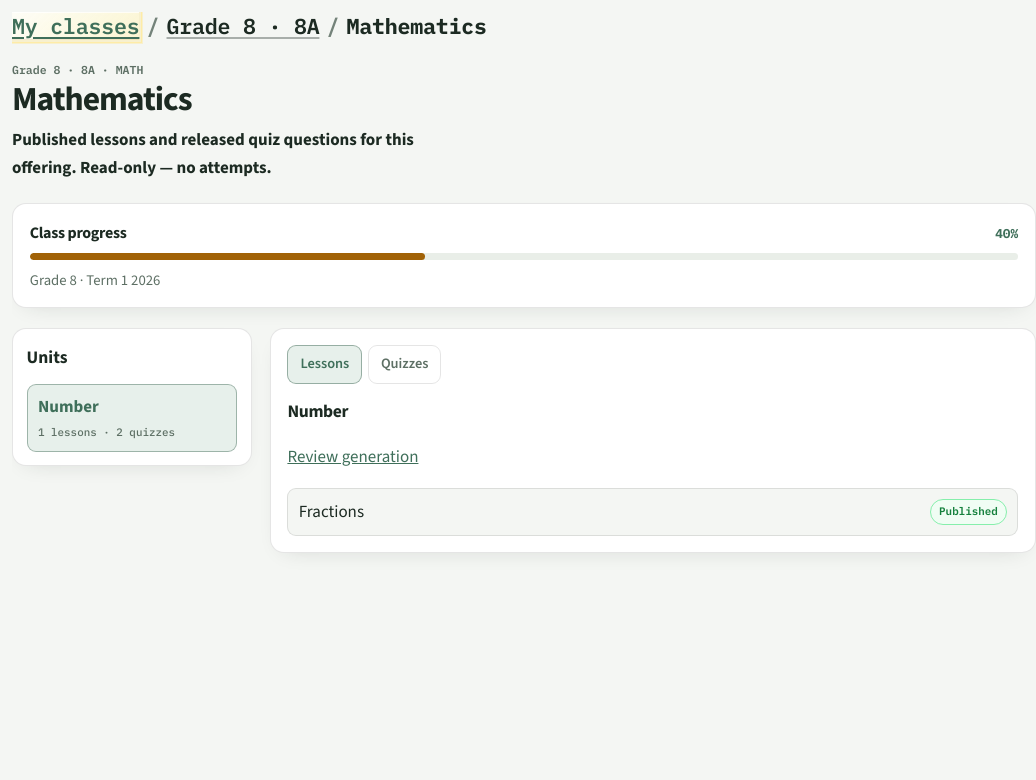
SubjectMaterialsPage › opens a published lesson from the live material GET
Click the button "Fractions Published".
click(331, 512)  # box [287,488,1018,536]
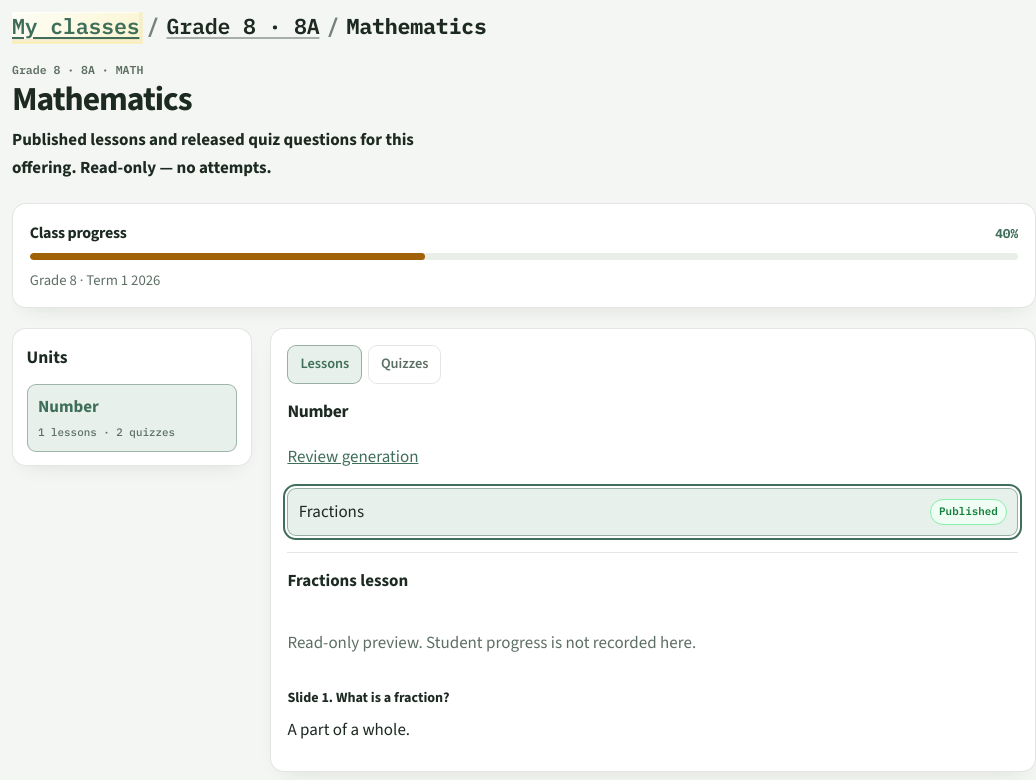
Check: the element named "Lesson preview" is shown, box [287,552,1018,755]
Check: the text "A part of a whole." is shown, box [287,718,410,741]
